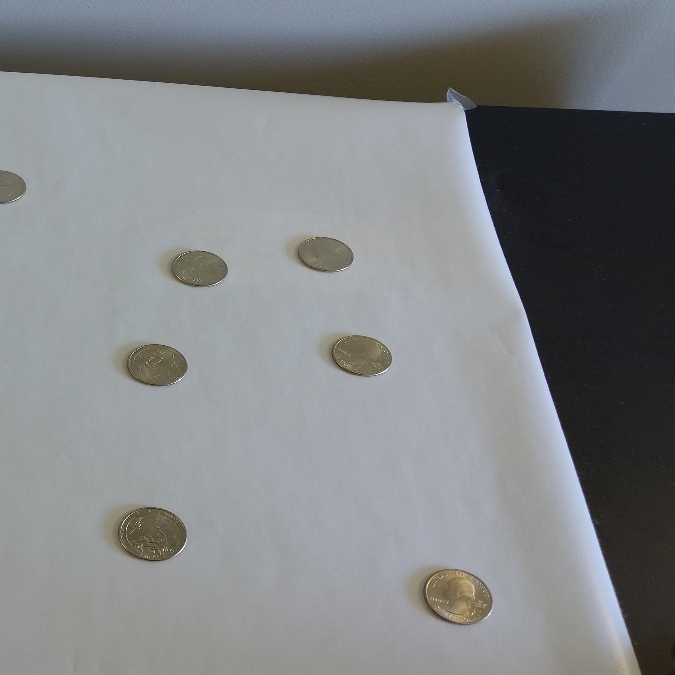coin_quarter: (413, 559, 501, 631), (111, 504, 195, 565), (322, 328, 398, 390), (126, 334, 194, 395), (293, 230, 366, 276), (169, 245, 235, 292)
